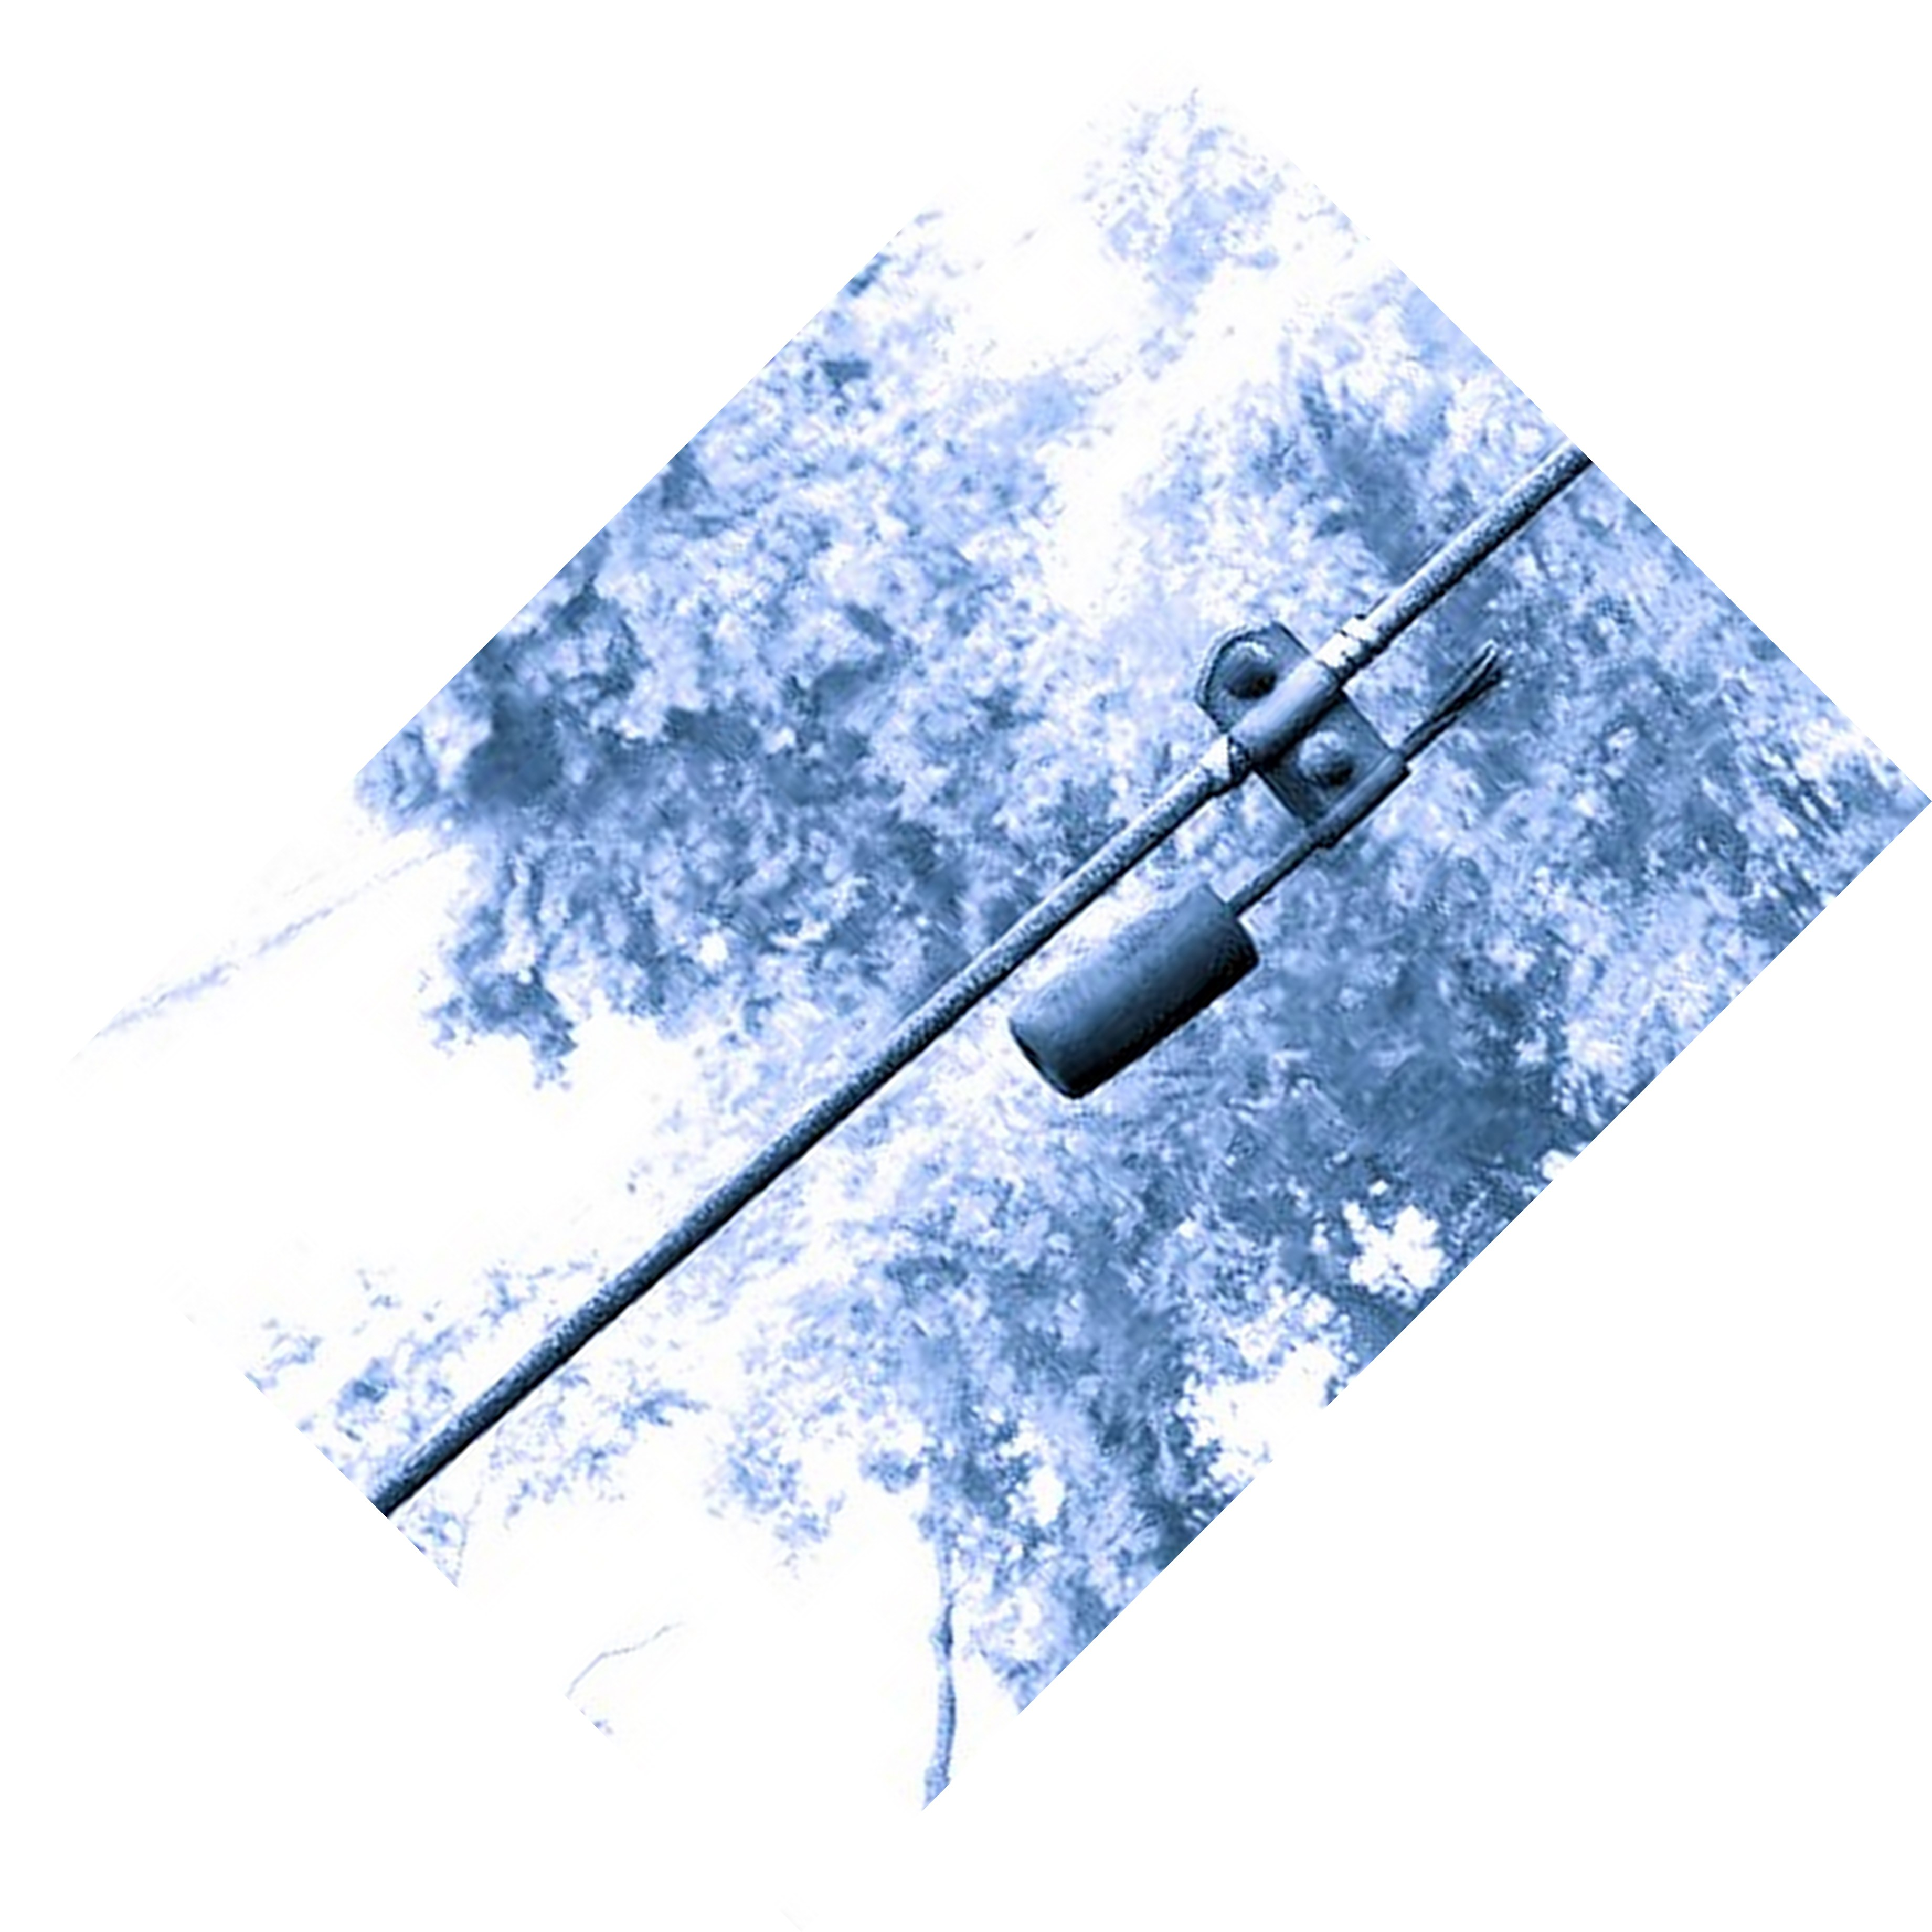Damage of shockproof hammer: (932, 568, 1541, 1111)
